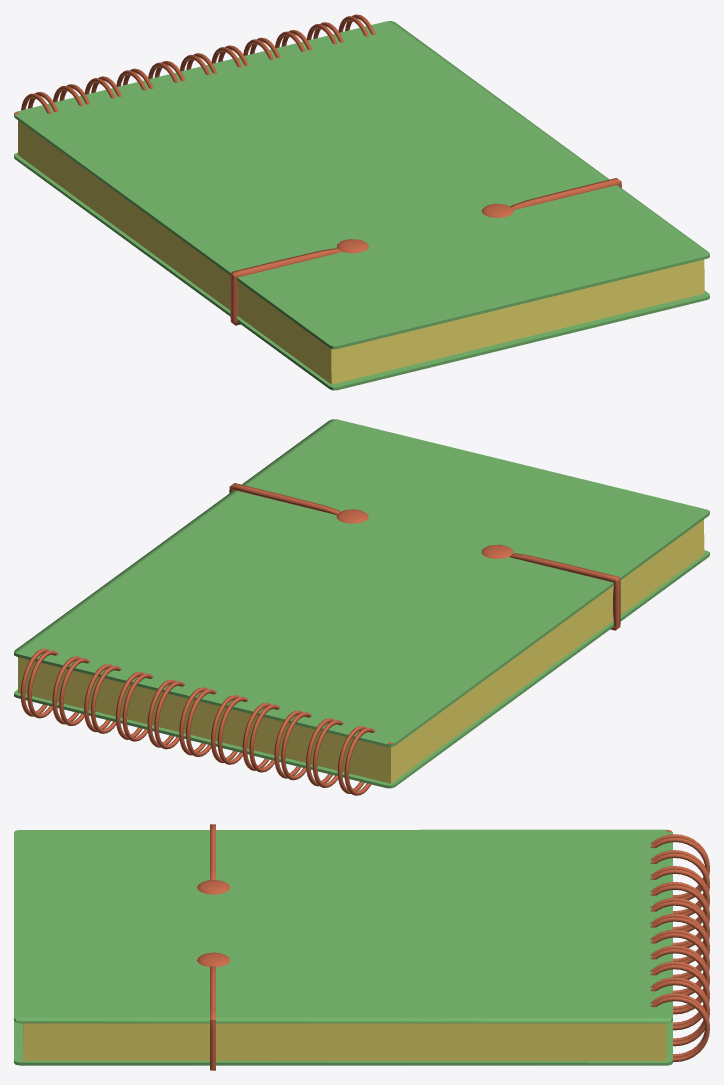
Rendered from 미니노트.fbx.
3 views of the same model, one above another, from view 1: azimuth 30°, elevation 25°; view 2: azimuth 150°, elevation 25°; view 3: azimuth 270°, elevation 25° (orthographic). The views are drawn at different scales.
Visible parts, largest first — view 1: small_notepad; view 2: small_notepad; view 3: small_notepad.
Part boxes in pixels (bbox=[...]): small_notepad: bbox=[14, 14, 709, 390]; small_notepad: bbox=[14, 419, 709, 795]; small_notepad: bbox=[14, 824, 709, 1070].
Bounding box in the file's own units: 776 × 121 × 1171.
